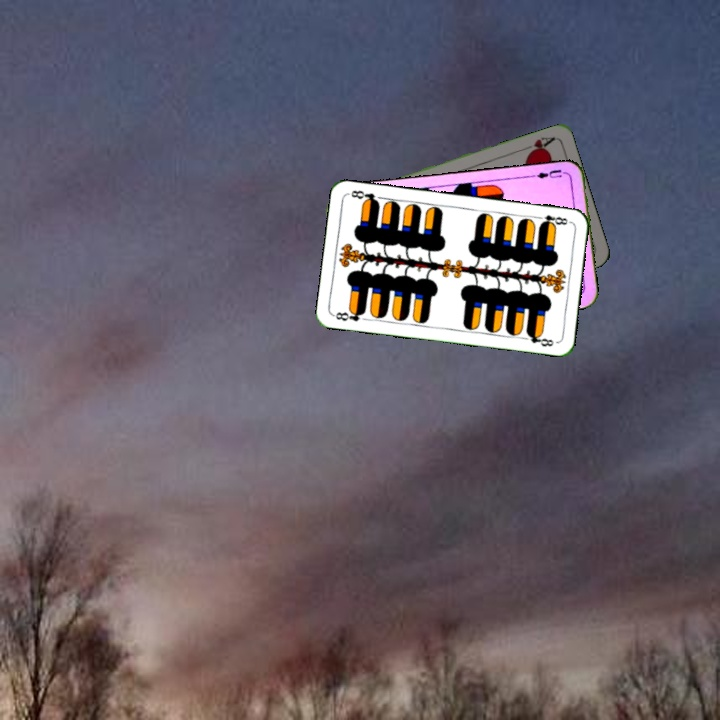E8: (533, 211, 573, 229), (330, 306, 368, 324)
EU: (533, 165, 569, 181)
HA: (518, 133, 557, 158)
